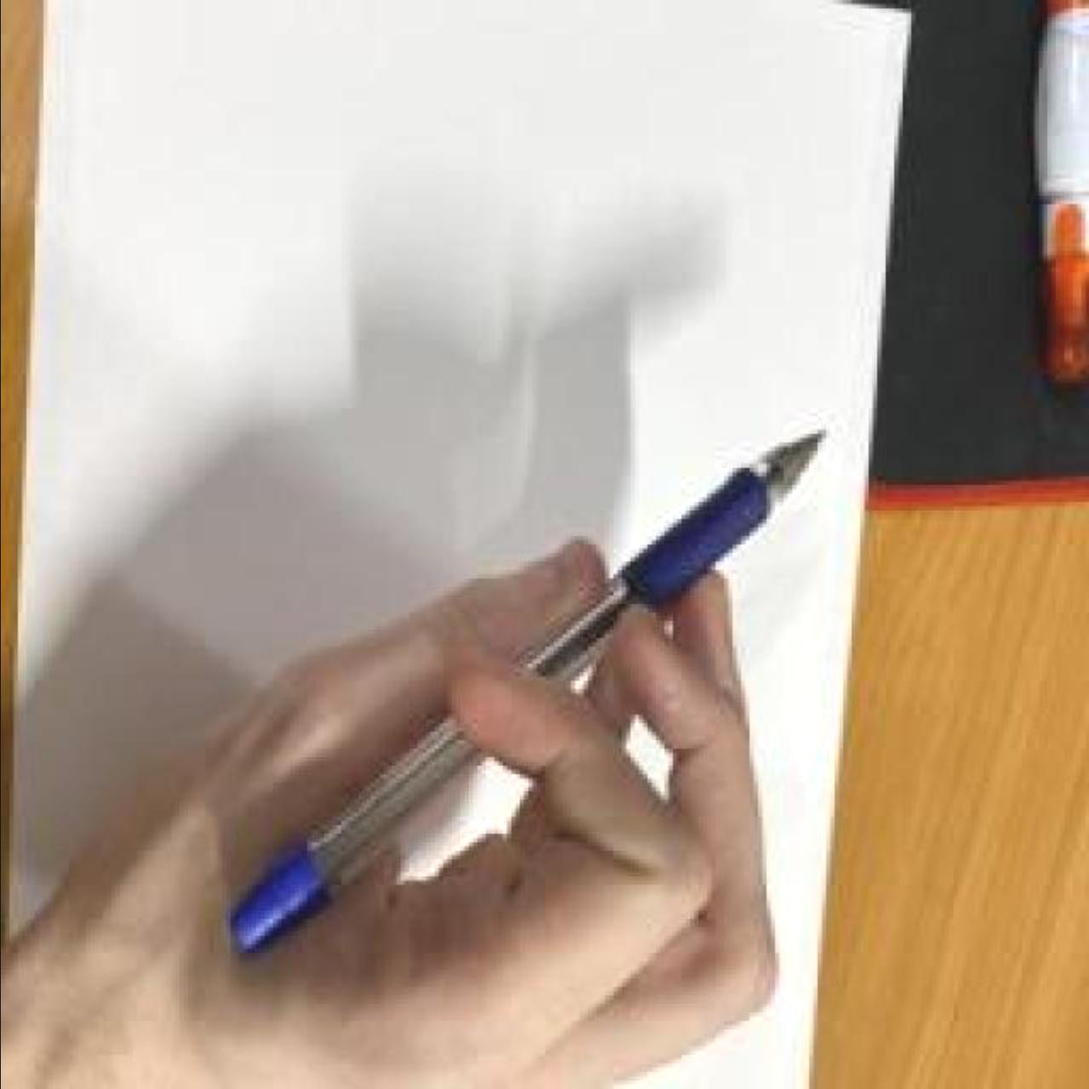pen: (225, 425, 829, 953)
